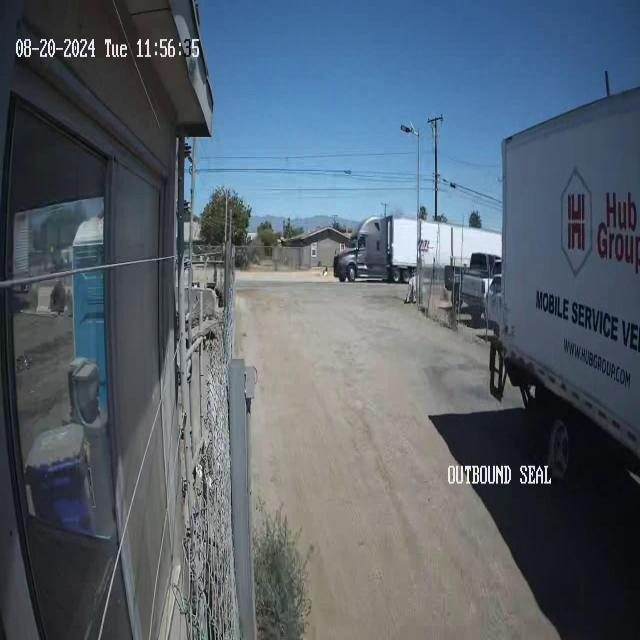TRUCK_IN: (489, 72, 639, 475)
